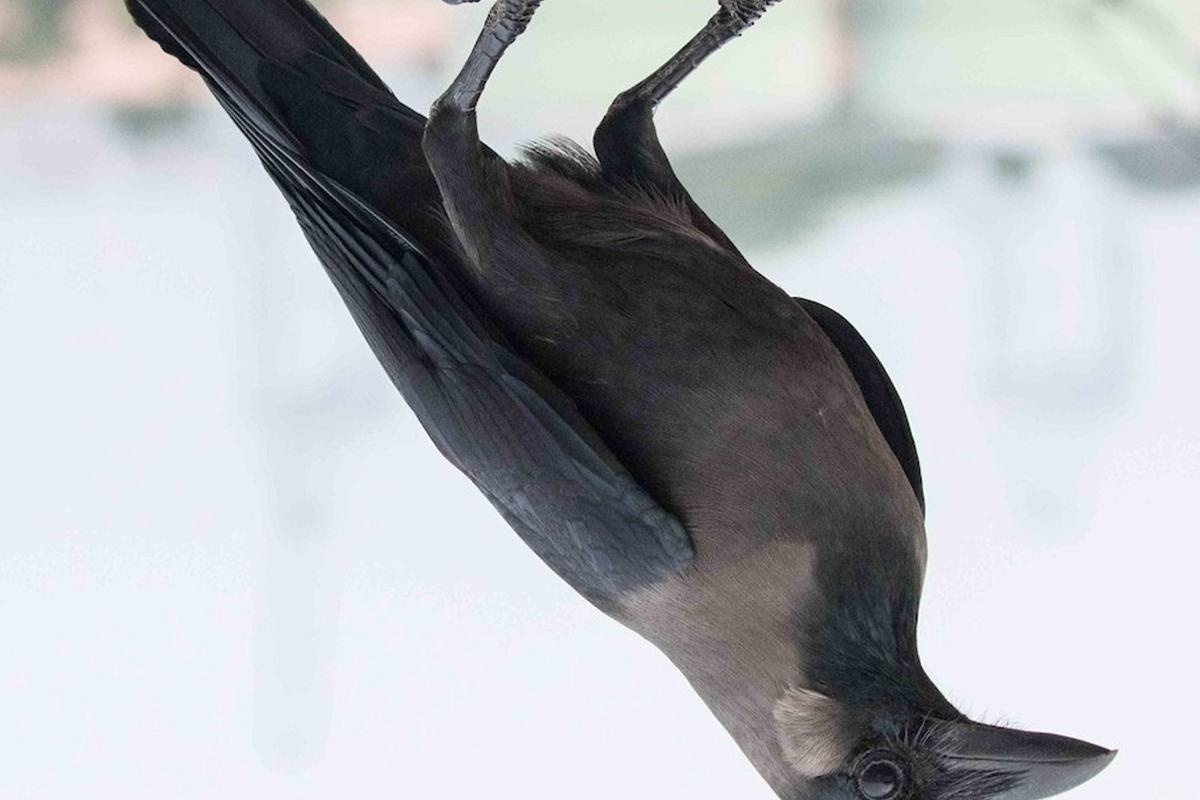crow: (96, 1, 1120, 799)
